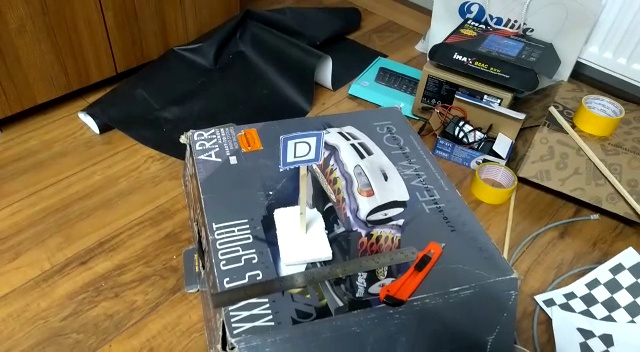durak: (277, 132, 325, 168)
